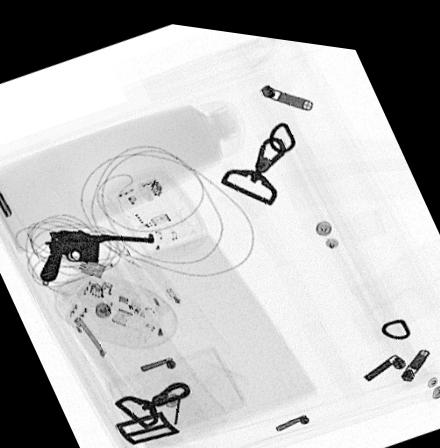Gun: (38, 227, 153, 281)
